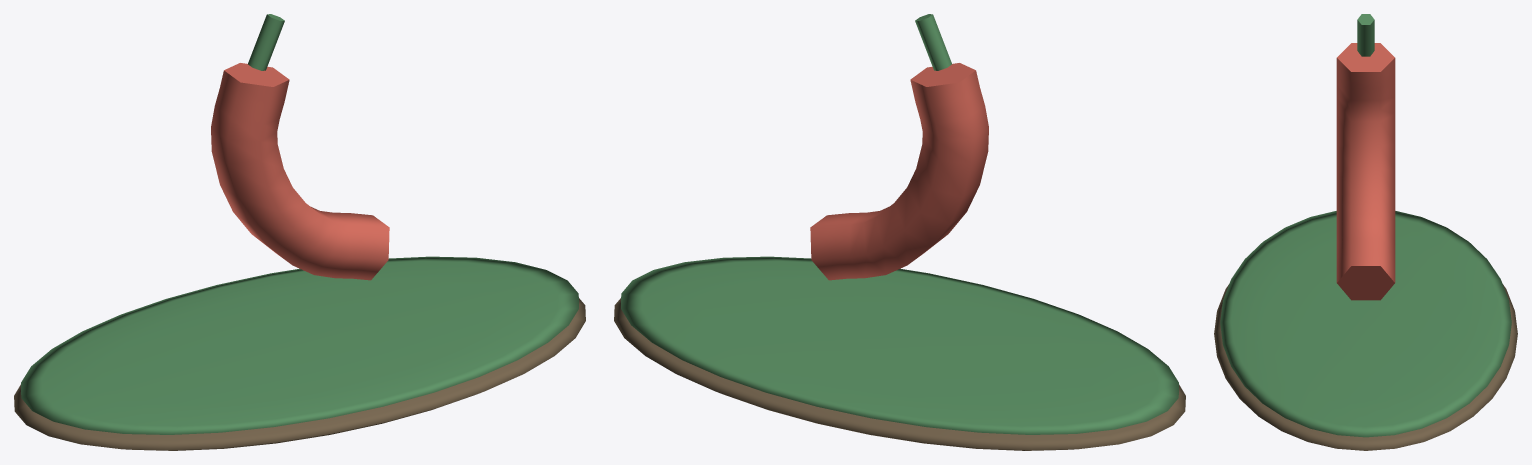
Rendered from chili.glb.
3 views of the same model, side by side, from view 1: azimuth 30°, elevation 25°; view 2: azimuth 150°, elevation 25°; view 3: azimuth 270°, elevation 25° (orthographic). The views are drawn at different scales.
Visible parts, largest first — view 1: chili_surface_01, chili_surface_02, chili_surface_00; view 2: chili_surface_01, chili_surface_02, chili_surface_00; view 3: chili_surface_01, chili_surface_02, chili_surface_00.
Part boxes in pixels (x1,y1,x2,y2): chili_surface_01: (21,14,578,434); chili_surface_02: (211,63,389,280); chili_surface_00: (14,298,585,450); chili_surface_01: (621,14,1178,434); chili_surface_02: (810,63,988,280); chili_surface_00: (614,298,1185,450); chili_surface_01: (1220,14,1511,437); chili_surface_02: (1336,43,1395,300); chili_surface_00: (1214,284,1517,450).
Bounding box in the file's own units: 4.56 × 2.91 × 2.5.
